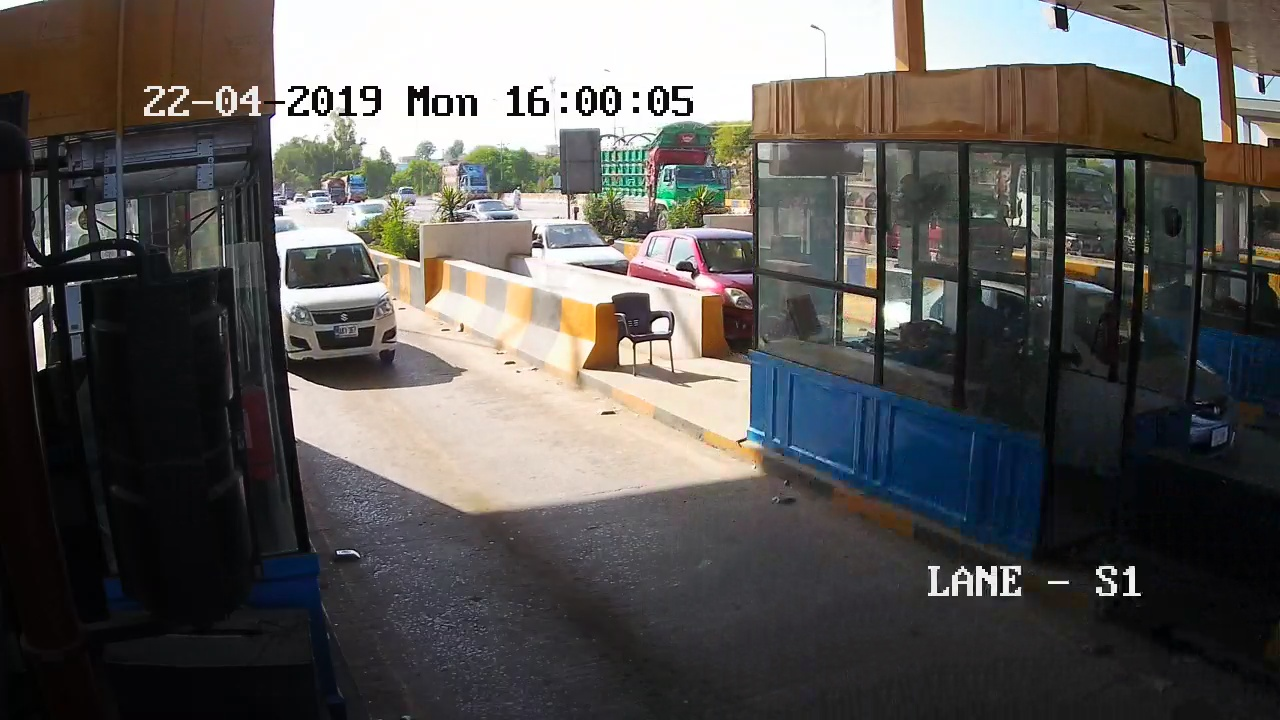car: (275, 231, 403, 372)
